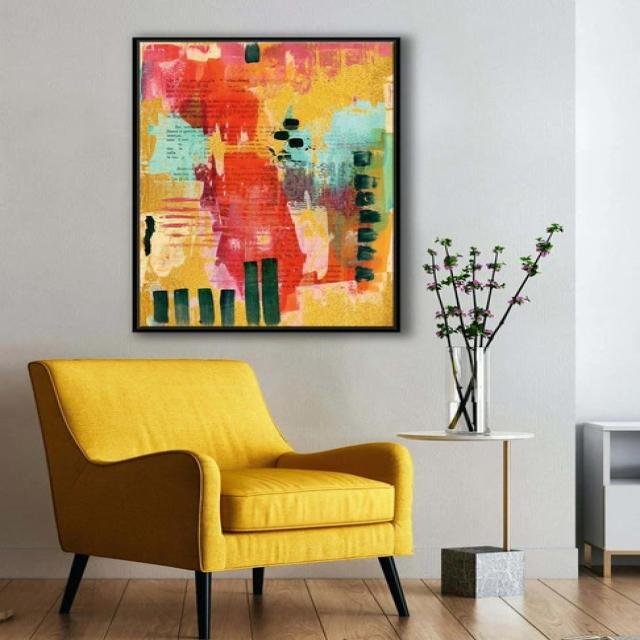painting: (132, 36, 402, 331)
